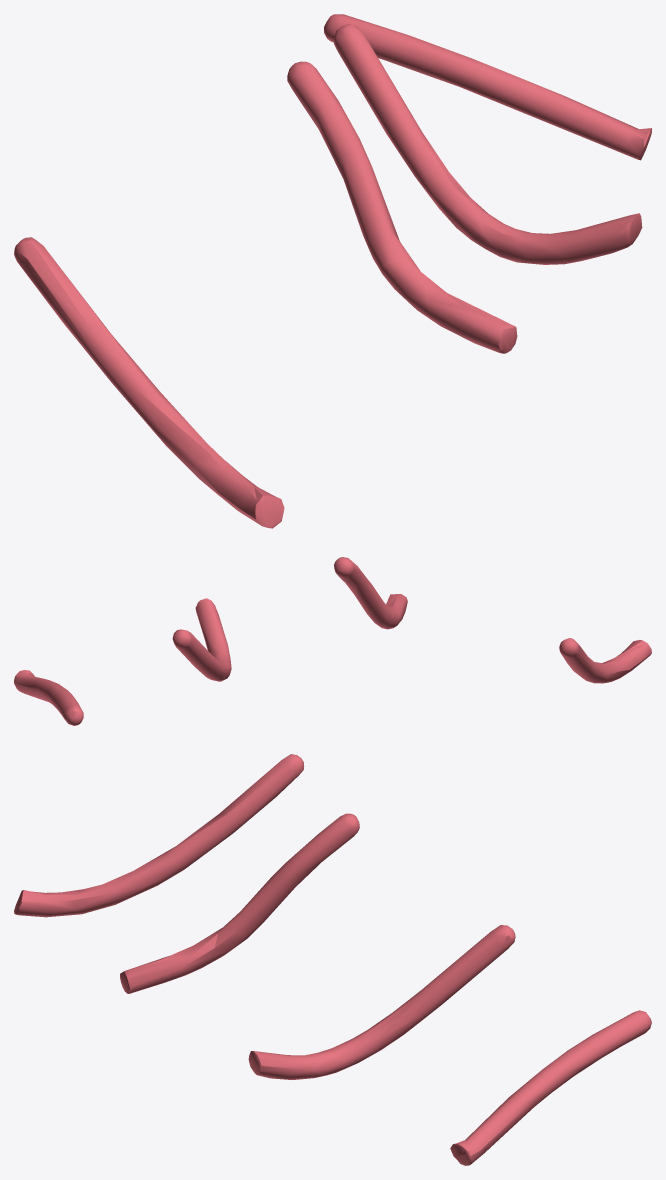
The model's file is fma70821_fj2092.glb.
The picture shows the model from 3 angles, top to bottom: view 1: azimuth 30°, elevation 25°; view 2: azimuth 150°, elevation 25°; view 3: azimuth 270°, elevation 25°; orthographic projection. The views are drawn at different scales.
Parts seen in each view (by area): view 1: FMA70821_FJ2092; view 2: FMA70821_FJ2092; view 3: FMA70821_FJ2092.
Boxes of the visible parts, x1,y1,x2,y2 form: FMA70821_FJ2092: (14, 14, 651, 528); FMA70821_FJ2092: (14, 557, 651, 725); FMA70821_FJ2092: (14, 754, 651, 1165).
Size of the model in its own units: 0.0399 by 0.0128 by 0.038.
